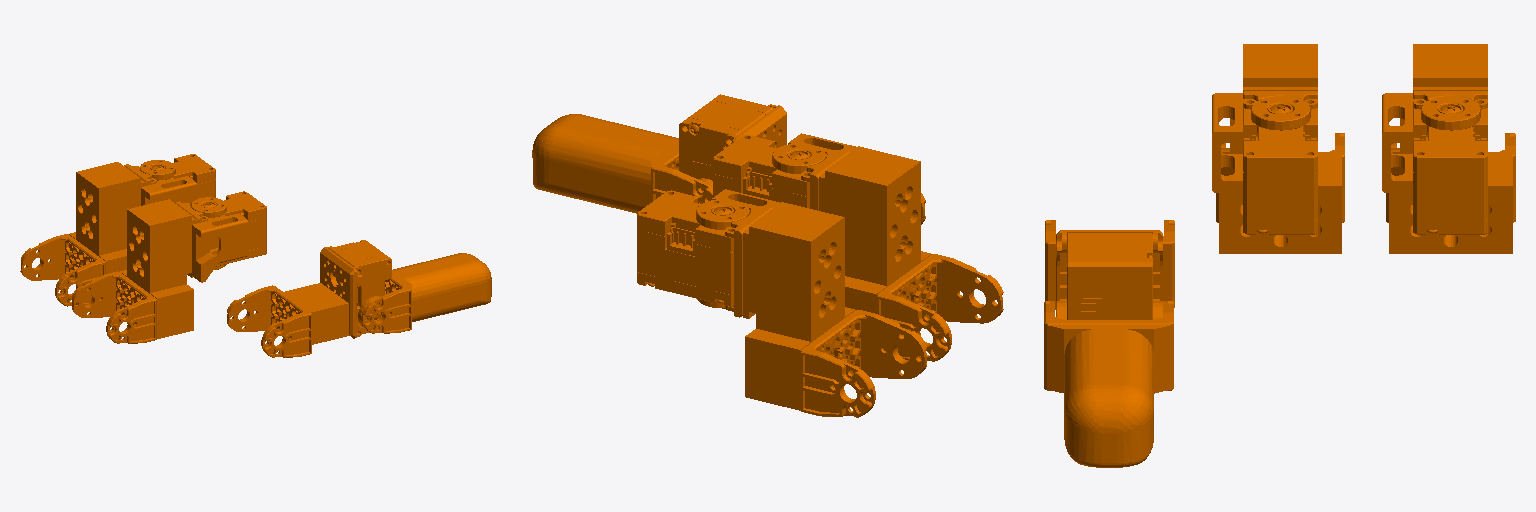
robot.urdf — onshape:
<robot name="onshape">
  <link name="palm_lower">
    <inertial>
      <origin xyz="0.0 0.0 0.0" rpy="0.0 -0.0 0.0"/>
      <mass value="0.237"/>
      <inertia ixx="0.000354094" ixy="-1.193e-06" ixz="-2.445e-06" iyy="0.000260915" iyz="-2.905e-06" izz="0.000529257"/>
    </inertial>
    <visual>
      <geometry>
        <mesh filename="../assets/leap/leap_hand/palm_lower.stl"/>
      </geometry>
      <origin xyz="-0.020095249652862544 0.025757756134899473 -0.034722403578460216" rpy="0.0 -0.0 0.0"/>
      <material name="palm_lower_material">
        <color rgba="0.6039215686274509 0.14901960784313725 0.14901960784313725 1.0"/>
      </material>
    </visual>
    <collision>
      <geometry>
        <mesh filename="../assets/leap/leap_hand/palm_lower.stl"/>
      </geometry>
      <origin xyz="-0.020095249652862544 0.025757756134899473 -0.034722403578460216" rpy="0.0 -0.0 0.0"/>
    </collision>
  </link>
  <link name="mcp_joint_long">
    <inertial>
      <origin xyz="0.0 0.0 0.0" rpy="0.0 -0.0 0.0"/>
      <mass value="0.044"/>
      <inertia ixx="1.1499e-05" ixy="3.049e-06" ixz="1.21e-07" iyy="7.796e-06" iyz="1.12e-07" izz="1.4759e-05"/>
    </inertial>
    <visual>
      <geometry>
        <mesh filename="custom_models/mcp_joint_long.stl"/>
      </geometry>
      <origin xyz="0.008406902261174496 0.0077662438597169954 0.014657354985032912" rpy="1.6375789613221e-15 -1.021047330249102e-30 1.7177968783327987e-31"/>
      <material name="mcp_joint_material">
        <color rgba="0.878 0.467 0.0 1.0"/>
      </material>
    </visual>
    <collision>
      <geometry>
        <mesh filename="custom_models/mcp_joint_long.stl"/>
      </geometry>
      <origin xyz="0.008406902261174496 0.0077662438597169954 0.014657354985032912" rpy="1.6375789613221e-15 -1.021047330249102e-30 1.7177968783327987e-31"/>
    </collision>
  </link>
  <link name="pip">
    <inertial>
      <origin xyz="0.0 0.0 0.0" rpy="0.0 -0.0 0.0"/>
      <mass value="0.032"/>
      <inertia ixx="4.798e-06" ixy="1.2e-08" ixz="4e-09" iyy="2.862e-06" iyz="1.1e-08" izz="4.234e-06"/>
    </inertial>
    <visual>
      <geometry>
        <mesh filename="../assets/leap/leap_hand/pip.stl"/>
      </geometry>
      <origin xyz="0.009643363092271328 0.0002999999999999895 0.0007840340104173765" rpy="-1.5707963267948966 -1.5707963267948963 0.0"/>
      <material name="pip_material">
        <color rgba="0.7490196078431373 0.7490196078431373 0.7490196078431373 1.0"/>
      </material>
    </visual>
    <collision>
      <geometry>
        <mesh filename="../assets/leap/leap_hand/pip.stl"/>
      </geometry>
      <origin xyz="0.009643363092271328 0.0002999999999999895 0.0007840340104173765" rpy="-1.5707963267948966 -1.5707963267948963 0.0"/>
    </collision>
  </link>
  <link name="dip">
    <inertial>
      <origin xyz="0.0 0.0 0.0" rpy="0.0 -0.0 0.0"/>
      <mass value="0.037"/>
      <inertia ixx="5.542e-06" ixy="-6.07e-07" ixz="-1.7e-08" iyy="5.727e-06" iyz="-2.3e-08" izz="6.682e-06"/>
    </inertial>
    <visual>
      <geometry>
        <mesh filename="../assets/leap/leap_hand/dip.stl"/>
      </geometry>
      <origin xyz="0.021133352895225003 -0.00843211914670488 0.00978508816209524" rpy="-3.141592653589793 4.507511124216441e-32 4.439548105392361e-32"/>
      <material name="dip_material">
        <color rgba="0.8666666666666667 0.8666666666666667 0.050980392156862744 1.0"/>
      </material>
    </visual>
    <collision>
      <geometry>
        <mesh filename="../assets/leap/leap_hand/dip.stl"/>
      </geometry>
      <origin xyz="0.021133352895225003 -0.00843211914670488 0.00978508816209524" rpy="-3.141592653589793 4.507511124216441e-32 4.439548105392361e-32"/>
    </collision>
  </link>
  <link name="fingertip">
    <inertial>
      <origin xyz="0.0 0.0 0.0" rpy="0.0 -0.0 0.0"/>
      <mass value="0.016"/>
      <inertia ixx="3.368e-06" ixy="1.15e-07" ixz="0.0" iyy="1.556e-06" iyz="0.0" izz="2.863e-06"/>
    </inertial>
    <visual>
      <geometry>
        <mesh filename="../assets/leap/leap_hand/fingertip.stl"/>
      </geometry>
      <origin xyz="0.013286424108533503 -0.006114238386541987 0.014499999999999498" rpy="3.141592653589793 1.1993117970061735e-33 4.439548105392361e-32"/>
      <material name="fingertip_material">
        <color rgba="0.8666666666666667 0.8666666666666667 0.050980392156862744 1.0"/>
      </material>
    </visual>
    <collision>
      <geometry>
        <mesh filename="../assets/leap/leap_hand/fingertip.stl"/>
      </geometry>
      <origin xyz="0.013286424108533503 -0.006114238386541987 0.014499999999999498" rpy="3.141592653589793 1.1993117970061735e-33 4.439548105392361e-32"/>
    </collision>
  </link>
  <link name="pip_4">
    <inertial>
      <origin xyz="0.0 0.0 0.0" rpy="0.0 -0.0 0.0"/>
      <mass value="0.032"/>
      <inertia ixx="4.798e-06" ixy="1.2e-08" ixz="4e-09" iyy="2.862e-06" iyz="1.1e-08" izz="4.234e-06"/>
    </inertial>
    <visual>
      <geometry>
        <mesh filename="../assets/leap/leap_hand/pip.stl"/>
      </geometry>
      <origin xyz="-0.005356636907728671 0.0002999999999999999 0.0007840340104173782" rpy="-1.5707963267948966 -1.5707963267948963 0.0"/>
      <material name="pip_material">
        <color rgba="0.7490196078431373 0.7490196078431373 0.7490196078431373 1.0"/>
      </material>
    </visual>
    <collision>
      <geometry>
        <mesh filename="../assets/leap/leap_hand/pip.stl"/>
      </geometry>
      <origin xyz="-0.005356636907728671 0.0002999999999999999 0.0007840340104173782" rpy="-1.5707963267948966 -1.5707963267948963 0.0"/>
    </collision>
  </link>
  <link name="thumb_pip">
    <inertial>
      <origin xyz="0.0 0.0 0.0" rpy="0.0 -0.0 0.0"/>
      <mass value="0.003"/>
      <inertia ixx="5.93e-07" ixy="0.0" ixz="0.0" iyy="5.49e-07" iyz="0.0" izz="2.24e-07"/>
    </inertial>
    <visual>
      <geometry>
        <mesh filename="../assets/leap/leap_hand/thumb_pip.stl"/>
      </geometry>
      <origin xyz="0.011961920770611187 -5.30825383648903e-16 -0.0158526489566642" rpy="1.5707963267948966 1.6050198443300153e-46 -3.9204996250525193e-59"/>
      <material name="thumb_pip_material">
        <color rgba="0.8666666666666667 0.8666666666666667 0.050980392156862744 1.0"/>
      </material>
    </visual>
    <collision>
      <geometry>
        <mesh filename="../assets/leap/leap_hand/thumb_pip.stl"/>
      </geometry>
      <origin xyz="0.011961920770611187 -5.30825383648903e-16 -0.0158526489566642" rpy="1.5707963267948966 1.6050198443300153e-46 -3.9204996250525193e-59"/>
    </collision>
  </link>
  <link name="thumb_dip">
    <inertial>
      <origin xyz="0.0 0.0 0.0" rpy="0.0 -0.0 0.0"/>
      <mass value="0.038"/>
      <inertia ixx="8.474e-06" ixy="2.41e-07" ixz="2.6e-08" iyy="3.841e-06" iyz="2.5e-08" izz="7.679e-06"/>
    </inertial>
    <visual>
      <geometry>
        <mesh filename="../assets/leap/leap_hand/thumb_dip.stl"/>
      </geometry>
      <origin xyz="0.043968715707239175 0.0579529529737092 -0.008628676449369476" rpy="1.94289029309401e-16 3.27515792264422e-15 1.112375852965736e-46"/>
      <material name="thumb_dip_material">
        <color rgba="0.8666666666666667 0.8666666666666667 0.050980392156862744 1.0"/>
      </material>
    </visual>
    <collision>
      <geometry>
        <mesh filename="../assets/leap/leap_hand/thumb_dip.stl"/>
      </geometry>
      <origin xyz="0.043968715707239175 0.0579529529737092 -0.008628676449369476" rpy="1.94289029309401e-16 3.27515792264422e-15 1.112375852965736e-46"/>
    </collision>
  </link>
  <link name="thumb_fingertip">
    <inertial>
      <origin xyz="0.0 0.0 0.0" rpy="0.0 -0.0 0.0"/>
      <mass value="0.049"/>
      <inertia ixx="2.0372e-05" ixy="-4.89e-07" ixz="-3e-08" iyy="4.336e-06" iyz="-9.7e-08" izz="1.9845e-05"/>
    </inertial>
    <visual>
      <geometry>
        <mesh filename="../assets/leap/leap_hand/thumb_fingertip.stl"/>
      </geometry>
      <origin xyz="0.06255953846266739 0.07845968291139699 0.048992911807332215" rpy="4.379057701015637e-47 -3.33066907387547e-16 1.2042408677791935e-46"/>
      <material name="thumb_fingertip_material">
        <color rgba="0.6039215686274509 0.14901960784313725 0.14901960784313725 1.0"/>
      </material>
    </visual>
    <collision>
      <geometry>
        <mesh filename="../assets/leap/leap_hand/thumb_fingertip.stl"/>
      </geometry>
      <origin xyz="0.06255953846266739 0.07845968291139699 0.048992911807332215" rpy="4.379057701015637e-47 -3.33066907387547e-16 1.2042408677791935e-46"/>
    </collision>
  </link>
  <link name="mcp_joint_2_long">
    <inertial>
      <origin xyz="0.0 0.0 0.0" rpy="0.0 -0.0 0.0"/>
      <mass value="0.044"/>
      <inertia ixx="1.1499e-05" ixy="3.049e-06" ixz="1.21e-07" iyy="7.796e-06" iyz="1.12e-07" izz="1.4759e-05"/>
    </inertial>
    <visual>
      <geometry>
        <mesh filename="custom_models/mcp_joint_long.stl"/>
      </geometry>
      <origin xyz="0.008406902261174496 0.0077662438597169954 0.014657354985032914" rpy="1.6375789613221e-15 -1.0076465469034e-30 2.1209300131419907e-61"/>
      <material name="mcp_joint_material">
        <color rgba="0.878 0.467 0.0 1.0"/>
      </material>
    </visual>
    <collision>
      <geometry>
        <mesh filename="custom_models/mcp_joint_long.stl"/>
      </geometry>
      <origin xyz="0.008406902261174496 0.0077662438597169954 0.014657354985032914" rpy="1.6375789613221e-15 -1.0076465469034e-30 2.1209300131419907e-61"/>
    </collision>
  </link>
  <link name="pip_2">
    <inertial>
      <origin xyz="0.0 0.0 0.0" rpy="0.0 -0.0 0.0"/>
      <mass value="0.032"/>
      <inertia ixx="4.798e-06" ixy="1.2e-08" ixz="4e-09" iyy="2.862e-06" iyz="1.1e-08" izz="4.234e-06"/>
    </inertial>
    <visual>
      <geometry>
        <mesh filename="../assets/leap/leap_hand/pip.stl"/>
      </geometry>
      <origin xyz="0.009643363092271328 0.0002999999999999947 0.0007840340104173765" rpy="-1.5707963267948966 -1.5707963267948963 0.0"/>
      <material name="pip_material">
        <color rgba="0.7490196078431373 0.7490196078431373 0.7490196078431373 1.0"/>
      </material>
    </visual>
    <collision>
      <geometry>
        <mesh filename="../assets/leap/leap_hand/pip.stl"/>
      </geometry>
      <origin xyz="0.009643363092271328 0.0002999999999999947 0.0007840340104173765" rpy="-1.5707963267948966 -1.5707963267948963 0.0"/>
    </collision>
  </link>
  <link name="dip_2">
    <inertial>
      <origin xyz="0.0 0.0 0.0" rpy="0.0 -0.0 0.0"/>
      <mass value="0.037"/>
      <inertia ixx="5.542e-06" ixy="-6.07e-07" ixz="-1.7e-08" iyy="5.727e-06" iyz="-2.3e-08" izz="6.682e-06"/>
    </inertial>
    <visual>
      <geometry>
        <mesh filename="../assets/leap/leap_hand/dip.stl"/>
      </geometry>
      <origin xyz="0.021133352895225003 -0.008432119146704865 0.009785088162095237" rpy="-3.141592653589793 2.1146933785271956e-32 1.4408183216511869e-31"/>
      <material name="dip_material">
        <color rgba="0.8666666666666667 0.8666666666666667 0.050980392156862744 1.0"/>
      </material>
    </visual>
    <collision>
      <geometry>
        <mesh filename="../assets/leap/leap_hand/dip.stl"/>
      </geometry>
      <origin xyz="0.021133352895225003 -0.008432119146704865 0.009785088162095237" rpy="-3.141592653589793 2.1146933785271956e-32 1.4408183216511869e-31"/>
    </collision>
  </link>
  <link name="fingertip_2">
    <inertial>
      <origin xyz="0.0 0.0 0.0" rpy="0.0 -0.0 0.0"/>
      <mass value="0.016"/>
      <inertia ixx="3.368e-06" ixy="1.15e-07" ixz="0.0" iyy="1.556e-06" iyz="0.0" izz="2.863e-06"/>
    </inertial>
    <visual>
      <geometry>
        <mesh filename="../assets/leap/leap_hand/fingertip.stl"/>
      </geometry>
      <origin xyz="0.013286424108533496 -0.006114238386542001 0.014499999999999496" rpy="3.141592653589793 -4.317959788283594e-33 1.4408183216511869e-31"/>
      <material name="fingertip_material">
        <color rgba="0.8666666666666667 0.8666666666666667 0.050980392156862744 1.0"/>
      </material>
    </visual>
    <collision>
      <geometry>
        <mesh filename="../assets/leap/leap_hand/fingertip.stl"/>
      </geometry>
      <origin xyz="0.013286424108533496 -0.006114238386542001 0.014499999999999496" rpy="3.141592653589793 -4.317959788283594e-33 1.4408183216511869e-31"/>
    </collision>
  </link>
  <link name="mcp_joint_3">
    <inertial>
      <origin xyz="0.0 0.0 0.0" rpy="0.0 -0.0 0.0"/>
      <mass value="0.044"/>
      <inertia ixx="1.1499e-05" ixy="3.049e-06" ixz="1.21e-07" iyy="7.796e-06" iyz="1.12e-07" izz="1.4759e-05"/>
    </inertial>
    <visual>
      <geometry>
        <mesh filename="../assets/leap/leap_hand/mcp_joint.stl"/>
      </geometry>
      <origin xyz="0.0084069022611745 0.007766243859716996 0.014657354985032914" rpy="1.6375789613221e-15 -1.0059504988632627e-30 5.729641584552035e-32"/>
      <material name="mcp_joint_material">
        <color rgba="0.8666666666666667 0.8666666666666667 0.050980392156862744 1.0"/>
      </material>
    </visual>
    <collision>
      <geometry>
        <mesh filename="../assets/leap/leap_hand/mcp_joint.stl"/>
      </geometry>
      <origin xyz="0.0084069022611745 0.007766243859716996 0.014657354985032914" rpy="1.6375789613221e-15 -1.0059504988632627e-30 5.729641584552035e-32"/>
    </collision>
  </link>
  <link name="pip_3">
    <inertial>
      <origin xyz="0.0 0.0 0.0" rpy="0.0 -0.0 0.0"/>
      <mass value="0.032"/>
      <inertia ixx="4.798e-06" ixy="1.2e-08" ixz="4e-09" iyy="2.862e-06" iyz="1.1e-08" izz="4.234e-06"/>
    </inertial>
    <visual>
      <geometry>
        <mesh filename="../assets/leap/leap_hand/pip.stl"/>
      </geometry>
      <origin xyz="0.009643363092271331 0.00029999999999998084 0.0007840340104173765" rpy="-1.5707963267948966 -1.5707963267948963 0.0"/>
      <material name="pip_material">
        <color rgba="0.7490196078431373 0.7490196078431373 0.7490196078431373 1.0"/>
      </material>
    </visual>
    <collision>
      <geometry>
        <mesh filename="../assets/leap/leap_hand/pip.stl"/>
      </geometry>
      <origin xyz="0.009643363092271331 0.00029999999999998084 0.0007840340104173765" rpy="-1.5707963267948966 -1.5707963267948963 0.0"/>
    </collision>
  </link>
  <link name="dip_3_long">
    <inertial>
      <origin xyz="0.0 0.0 0.0" rpy="0.0 -0.0 0.0"/>
      <mass value="0.037"/>
      <inertia ixx="5.542e-06" ixy="-6.07e-07" ixz="-1.7e-08" iyy="5.727e-06" iyz="-2.3e-08" izz="6.682e-06"/>
    </inertial>
    <visual>
      <geometry>
        <mesh filename="custom_models/dip_long.stl"/>
      </geometry>
      <origin xyz="0.021133352895225006 -0.008432119146704865 0.009785088162095237" rpy="-3.141592653589793 -1.4095651113919093e-33 1.5565411607615035e-32"/>
      <material name="dip_material">
        <color rgba="0.878 0.467 0.0 1.0"/>
      </material>
    </visual>
    <collision>
      <geometry>
        <mesh filename="custom_models/dip_long.stl"/>
      </geometry>
      <origin xyz="0.021133352895225006 -0.008432119146704865 0.009785088162095237" rpy="-3.141592653589793 -1.4095651113919093e-33 1.5565411607615035e-32"/>
    </collision>
  </link>
  <link name="fingertip_3_long">
    <inertial>
      <origin xyz="0.0 0.0 0.0" rpy="0.0 -0.0 0.0"/>
      <mass value="0.016"/>
      <inertia ixx="3.368e-06" ixy="1.15e-07" ixz="0.0" iyy="1.556e-06" iyz="0.0" izz="2.863e-06"/>
    </inertial>
    <visual>
      <geometry>
        <mesh filename="custom_models/fingertip_long.stl"/>
      </geometry>
      <origin xyz="0.013286424108533501 -0.006114238386541987 0.0144999999999995" rpy="3.141592653589793 8.61707169505754e-33 1.5565411607615035e-32"/>
      <material name="fingertip_material">
        <color rgba="0.878 0.467 0.0 1.0"/>
      </material>
    </visual>
    <collision>
      <geometry>
        <mesh filename="custom_models/fingertip_long.stl"/>
      </geometry>
      <origin xyz="0.013286424108533501 -0.006114238386541987 0.0144999999999995" rpy="3.141592653589793 8.61707169505754e-33 1.5565411607615035e-32"/>
    </collision>
  </link>
  <joint name="1" type="revolute">
    <parent link="palm_lower"/>
    <child link="mcp_joint_long"/>
    <origin xyz="-0.007095249652862546 0.023057756134899472 -0.01872240357846022" rpy="1.570796326794895 1.5707963267948946 0.0"/>
    <axis xyz="0.0 0.0 -1.0"/>
    <limit effort="0.95" velocity="8.48" lower="-0.314" upper="2.23"/>
  </joint>
  <joint name="0" type="revolute">
    <parent link="mcp_joint_long"/>
    <child link="pip"/>
    <origin xyz="-0.012200000000000007713 0.053099999999999994982 0.014500000000000000736" rpy="-1.5707963267948966 -1.0065212660796337e-15 1.5707963267948943"/>
    <axis xyz="0.0 0.0 -1.0"/>
    <limit effort="0.95" velocity="8.48" lower="-1.047" upper="1.047"/>
  </joint>
  <joint name="2" type="revolute">
    <parent link="pip"/>
    <child link="dip"/>
    <origin xyz="0.014999999999999968 0.014299999999999905 -0.012999999999999824" rpy="1.570796326794896 -1.5707963267948963 0.0"/>
    <axis xyz="0.0 0.0 -1.0"/>
    <limit effort="0.95" velocity="8.48" lower="-0.506" upper="1.885"/>
  </joint>
  <joint name="3" type="revolute">
    <parent link="dip"/>
    <child link="fingertip"/>
    <origin xyz="-4.088058249557269e-09 -0.03610000421036737 0.0002000000000000786" rpy="4.5935029425113685e-17 -2.8730071914463795e-16 4.439548105392361e-32"/>
    <axis xyz="0.0 0.0 -1.0"/>
    <limit effort="0.95" velocity="8.48" lower="-0.366" upper="2.042"/>
  </joint>
  <joint name="12" type="revolute">
    <parent link="palm_lower"/>
    <child link="pip_4"/>
    <origin xyz="-0.06939524965286253 -0.0012422438651005258 -0.021622403578460216" rpy="-8.238176646493942e-17 1.5707963267948957 0.0"/>
    <axis xyz="0.0 0.0 -1.0"/>
    <limit effort="0.95" velocity="8.48" lower="-0.349" upper="2.094"/>
  </joint>
  <joint name="13" type="revolute">
    <parent link="pip_4"/>
    <child link="thumb_pip"/>
    <origin xyz="-2.7755575615628914e-17 0.014300000000000005 -0.013000000000000012" rpy="1.570796326794896 -1.5707963267948963 0.0"/>
    <axis xyz="0.0 0.0 -1.0"/>
    <limit effort="0.95" velocity="8.48" lower="-0.47" upper="2.443"/>
  </joint>
  <joint name="14" type="revolute">
    <parent link="thumb_pip"/>
    <child link="thumb_dip"/>
    <origin xyz="0.0 0.014499999999999966 -0.017000000000000053" rpy="-1.5707963267948966 1.6050198443300131e-46 -1.9721522630516625e-31"/>
    <axis xyz="0.0 0.0 -1.0"/>
    <limit effort="0.95" velocity="8.48" lower="-1.2" upper="1.9"/>
  </joint>
  <joint name="15" type="revolute">
    <parent link="thumb_dip"/>
    <child link="thumb_fingertip"/>
    <origin xyz="-1.249000902703301e-16 0.046599999999999864 0.0001999999999999771" rpy="1.506395849149178e-44 5.423418723393526e-31 3.141592653589793"/>
    <axis xyz="0.0 0.0 -1.0"/>
    <limit effort="0.95" velocity="8.48" lower="-1.34" upper="1.88"/>
  </joint>
  <joint name="5" type="revolute">
    <parent link="palm_lower"/>
    <child link="mcp_joint_2_long"/>
    <origin xyz="-0.007095249652862546 -0.022392243865100525 -0.01872240357846022" rpy="1.570796326794895 1.5707963267948946 0.0"/>
    <axis xyz="0.0 0.0 -1.0"/>
    <limit effort="0.95" velocity="8.48" lower="-0.314" upper="2.23"/>
  </joint>
  <joint name="4" type="revolute">
    <parent link="mcp_joint_2_long"/>
    <child link="pip_2"/>
    <origin xyz="-0.012200000000000007713 0.053099999999999994982 0.014500000000000000736" rpy="-1.5707963267948966 -1.0065212660796337e-15 1.5707963267948943"/>
    <axis xyz="0.0 0.0 -1.0"/>
    <limit effort="0.95" velocity="8.48" lower="-1.047" upper="1.047"/>
  </joint>
  <joint name="6" type="revolute">
    <parent link="pip_2"/>
    <child link="dip_2"/>
    <origin xyz="0.014999999999999968 0.014299999999999905 -0.012999999999999824" rpy="1.570796326794896 -1.5707963267948963 0.0"/>
    <axis xyz="0.0 0.0 -1.0"/>
    <limit effort="0.95" velocity="8.48" lower="-0.506" upper="1.885"/>
  </joint>
  <joint name="7" type="revolute">
    <parent link="dip_2"/>
    <child link="fingertip_2"/>
    <origin xyz="-4.088058249557269e-09 -0.03610000421036737 0.0002000000000000786" rpy="4.5935029425113685e-17 -2.8730071914463795e-16 4.439548105392361e-32"/>
    <axis xyz="0.0 0.0 -1.0"/>
    <limit effort="0.95" velocity="8.48" lower="-0.366" upper="2.042"/>
  </joint>
  <joint name="9" type="revolute">
    <parent link="palm_lower"/>
    <child link="mcp_joint_3"/>
    <origin xyz="-0.007095249652862546 -0.06784224386510052 -0.01872240357846022" rpy="1.570796326794895 1.5707963267948946 0.0"/>
    <axis xyz="0.0 0.0 -1.0"/>
    <limit effort="0.95" velocity="8.48" lower="-0.314" upper="2.23"/>
  </joint>
  <joint name="8" type="revolute">
    <parent link="mcp_joint_3"/>
    <child link="pip_3"/>
    <origin xyz="-0.012200000000000008 0.038099999999999995 0.0145" rpy="-1.5707963267948966 -1.0065212660796337e-15 1.5707963267948943"/>
    <axis xyz="0.0 0.0 -1.0"/>
    <limit effort="0.95" velocity="8.48" lower="-1.047" upper="1.047"/>
  </joint>
  <joint name="10" type="revolute">
    <parent link="pip_3"/>
    <child link="dip_3_long"/>
    <origin xyz="0.014999999999999968 0.014299999999999905 -0.012999999999999824" rpy="1.570796326794896 -1.5707963267948963 0.0"/>
    <axis xyz="0.0 0.0 -1.0"/>
    <limit effort="0.95" velocity="8.48" lower="-0.506" upper="1.885"/>
  </joint>
  <joint name="11" type="revolute">
    <parent link="dip_3_long"/>
    <child link="fingertip_3_long"/>
    <origin xyz="-4.0880582495572692636e-09 -0.051100004210367367397 0.00020000000000007858714" rpy="4.5935029425113685e-17 -2.8730071914463795e-16 4.439548105392361e-32"/>
    <axis xyz="0.0 0.0 -1.0"/>
    <limit effort="0.95" velocity="8.48" lower="-0.366" upper="2.042"/>
  </joint>
</robot>

--- What the picture shows (computed from the rendered views, not written in the file) ---
The picture shows the robot from 3 angles, left to right: view 1: azimuth 30°, elevation 25°; view 2: azimuth 150°, elevation 25°; view 3: azimuth 270°, elevation 25°; orthographic projection.
Robot: onshape — 17 links, 16 joints (16 revolute); root link palm_lower; default pose: every joint at zero.
Links seen in each view (by area): view 1: mcp_joint_2_long, mcp_joint_long, dip_3_long, fingertip_3_long; view 2: mcp_joint_long, mcp_joint_2_long, fingertip_3_long, dip_3_long; view 3: mcp_joint_long, mcp_joint_2_long, fingertip_3_long, dip_3_long.
Boxes of the visible links, box(x1,y1,x2,y2) form: mcp_joint_2_long: box(72, 191, 266, 343); mcp_joint_long: box(20, 154, 215, 306); dip_3_long: box(227, 240, 391, 357); fingertip_3_long: box(361, 253, 491, 333); mcp_joint_long: box(637, 189, 926, 417); mcp_joint_2_long: box(713, 133, 1003, 361); fingertip_3_long: box(532, 114, 712, 213); dip_3_long: box(679, 94, 925, 224); mcp_joint_long: box(1382, 44, 1515, 253); mcp_joint_2_long: box(1212, 44, 1344, 253); fingertip_3_long: box(1044, 301, 1173, 467); dip_3_long: box(1045, 220, 1174, 319).
Size in the robot's own frame: 0.1766 by 0.1259 by 0.0549 metres.
4 mesh visuals loaded from 11 distinct referenced files (3 binary STL); not drawn: 13 (reference not matched to a file when rendering).